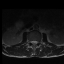CCS_normal: (33, 39, 35, 46)
LFS_normal: (37, 39, 39, 44)
LLS_normal: (35, 39, 37, 45)
RFS_normal: (29, 39, 31, 44)
RLS_normal: (31, 39, 33, 45)
